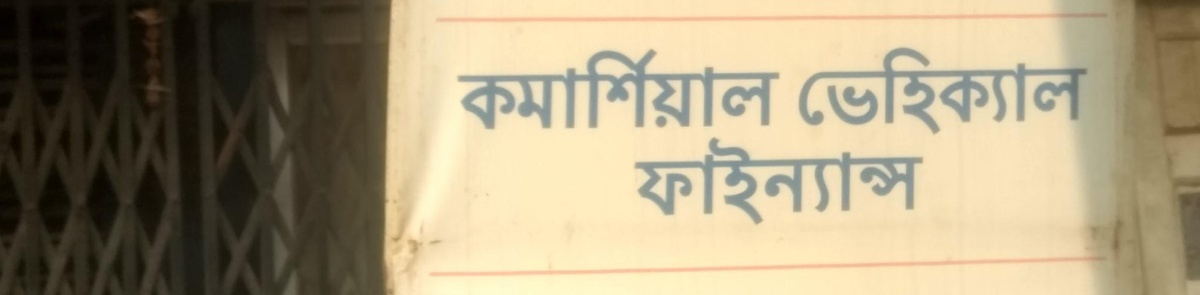text: (113, 6, 128, 126), (129, 6, 144, 126), (145, 6, 160, 126), (161, 6, 176, 126), (99, 6, 112, 126), (641, 136, 656, 232), (657, 136, 672, 232), (673, 136, 688, 232), (689, 136, 704, 232), (705, 136, 720, 232), (721, 136, 736, 232), (737, 136, 752, 232), (753, 136, 768, 232), (769, 136, 784, 232), (785, 136, 800, 232), (801, 136, 816, 232), (817, 136, 832, 232), (833, 136, 848, 232), (849, 136, 864, 232), (865, 136, 880, 232), (881, 136, 896, 232), (897, 136, 912, 232), (801, 45, 816, 140), (817, 45, 832, 140), (833, 45, 848, 140), (849, 45, 864, 140), (865, 45, 880, 140), (881, 45, 896, 140), (897, 45, 912, 140), (913, 45, 928, 140), (929, 45, 944, 140), (945, 45, 960, 140), (961, 45, 976, 140), (977, 45, 992, 140), (993, 45, 1008, 140), (1009, 45, 1024, 140), (1025, 45, 1040, 140), (1041, 45, 1056, 140), (1057, 45, 1072, 140), (1073, 45, 1088, 140), (465, 40, 480, 133), (481, 40, 496, 133), (497, 40, 512, 133), (513, 40, 528, 133), (529, 40, 544, 133), (545, 40, 560, 133), (561, 40, 576, 133), (577, 40, 592, 133), (593, 40, 608, 133), (609, 40, 624, 133), (625, 40, 640, 133), (641, 40, 656, 133), (657, 40, 672, 133), (673, 40, 688, 133), (689, 40, 704, 133), (705, 40, 720, 133), (721, 40, 736, 133), (737, 40, 752, 133), (753, 40, 768, 133), (913, 136, 927, 232), (769, 40, 782, 133), (177, 6, 186, 126), (631, 136, 640, 232), (458, 40, 464, 133), (796, 45, 800, 140), (1089, 45, 1092, 140)
